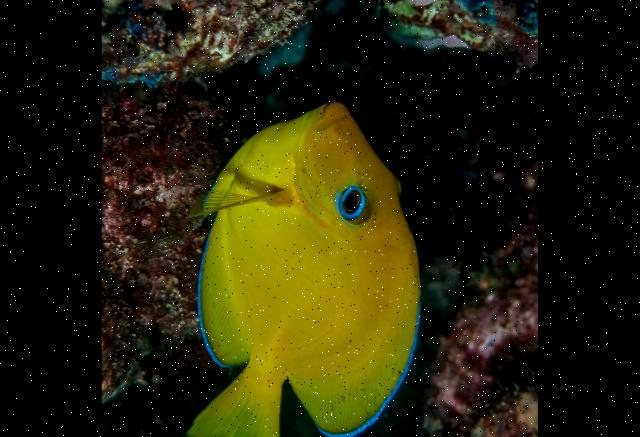Mulut: (288, 76, 358, 132)
Sirip Anal: (192, 208, 262, 377)
Sirip Dada: (178, 178, 307, 228)
Sirip Ekor: (179, 363, 298, 437)
Sirip Perut: (186, 153, 247, 220)
Sirip Punggung: (286, 246, 431, 437)
